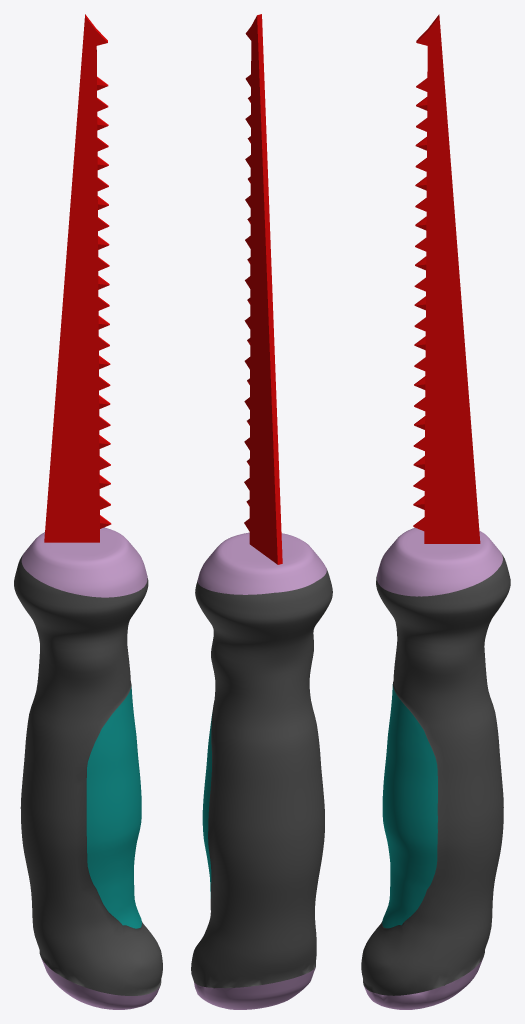
File: A_JD_HandSaw_002.fbx
The picture shows the model from 3 angles, left to right: view 1: azimuth 90°, elevation 25°; view 2: azimuth 210°, elevation 25°; view 3: azimuth 270°, elevation 25°; orthographic projection.
Visible parts, largest first — view 1: Cylinder003; view 2: Cylinder003; view 3: Cylinder003.
Boxes of the visible parts, box(x1,y1,x2,y2) form: Cylinder003: box(14, 14, 162, 1009); Cylinder003: box(191, 14, 332, 1009); Cylinder003: box(361, 14, 510, 1009).
Size of the model in its own units: 2.37 by 19.11 by 2.62.
